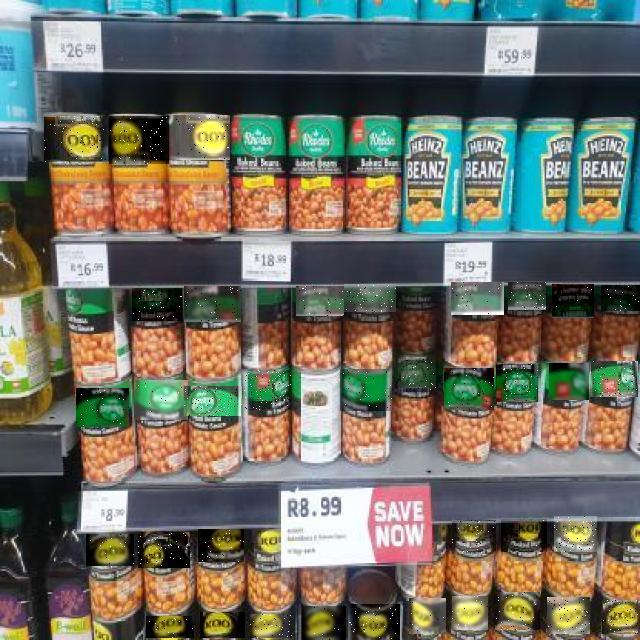Beans: (44, 116, 108, 162), (109, 116, 169, 164), (167, 115, 230, 160), (340, 369, 392, 411), (134, 380, 188, 420), (444, 368, 494, 410), (76, 388, 129, 427), (184, 286, 241, 322), (243, 370, 291, 410), (138, 532, 190, 568), (348, 604, 400, 640), (451, 282, 504, 315), (184, 386, 242, 416), (591, 361, 639, 397), (495, 592, 540, 630), (132, 288, 182, 321), (496, 364, 538, 402), (547, 597, 590, 634), (502, 519, 550, 552), (554, 516, 597, 552), (86, 534, 134, 566), (198, 529, 244, 562), (452, 520, 496, 554), (302, 606, 346, 640), (549, 363, 589, 400), (344, 285, 396, 313), (296, 286, 344, 316), (552, 285, 594, 319), (409, 598, 446, 634), (398, 358, 436, 392), (452, 596, 488, 630), (602, 600, 638, 634), (200, 613, 245, 639), (508, 282, 546, 310), (146, 616, 194, 638), (601, 285, 640, 311), (251, 614, 293, 638)
